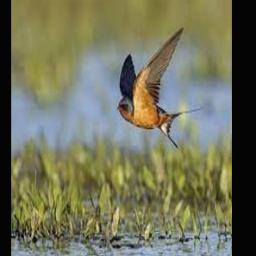Swallow: (117, 27, 203, 149)
